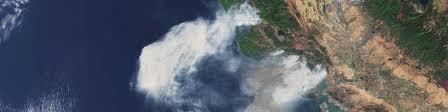smoke: (131, 18, 331, 112)
